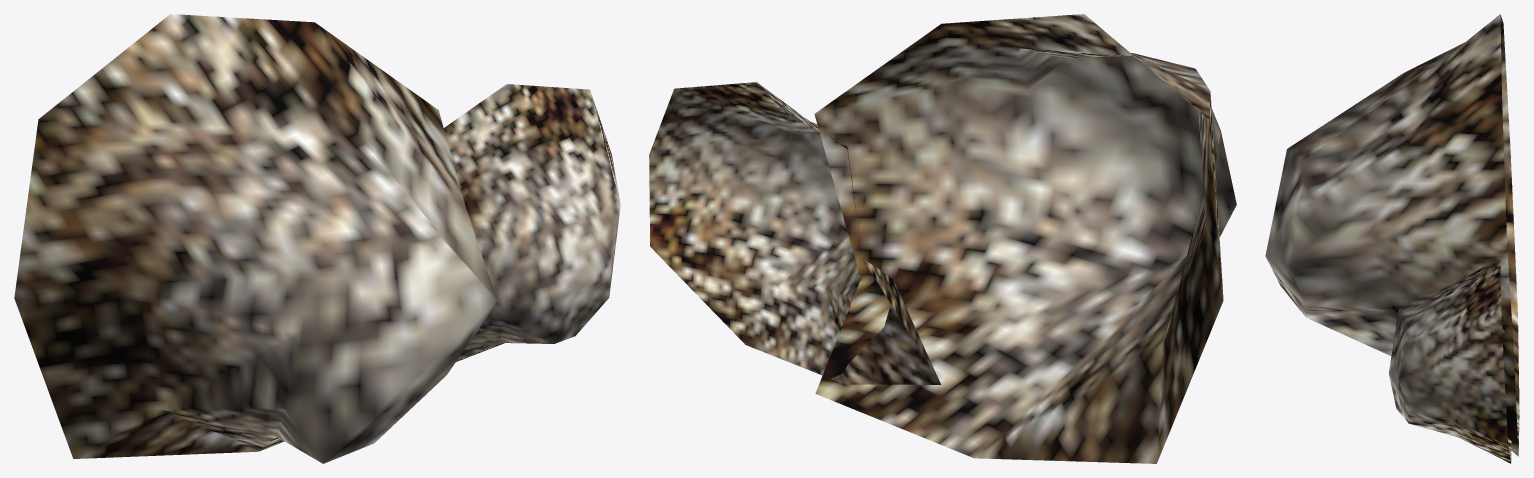
Rendered from stone.FBX.
The picture shows the model from 3 angles, left to right: view 1: azimuth 30°, elevation 25°; view 2: azimuth 150°, elevation 25°; view 3: azimuth 270°, elevation 25°; orthographic projection. The views are drawn at different scales.
Visible parts, largest first — view 1: kuangshi; view 2: kuangshi; view 3: kuangshi.
Boxes of the visible parts, x1,y1,x2,y2 form: kuangshi: (14,14,620,463); kuangshi: (649,14,1236,463); kuangshi: (1265,14,1519,463).
Size of the model in its own units: 3.54 by 2.69 by 1.7.
1 material, 1 textured.
